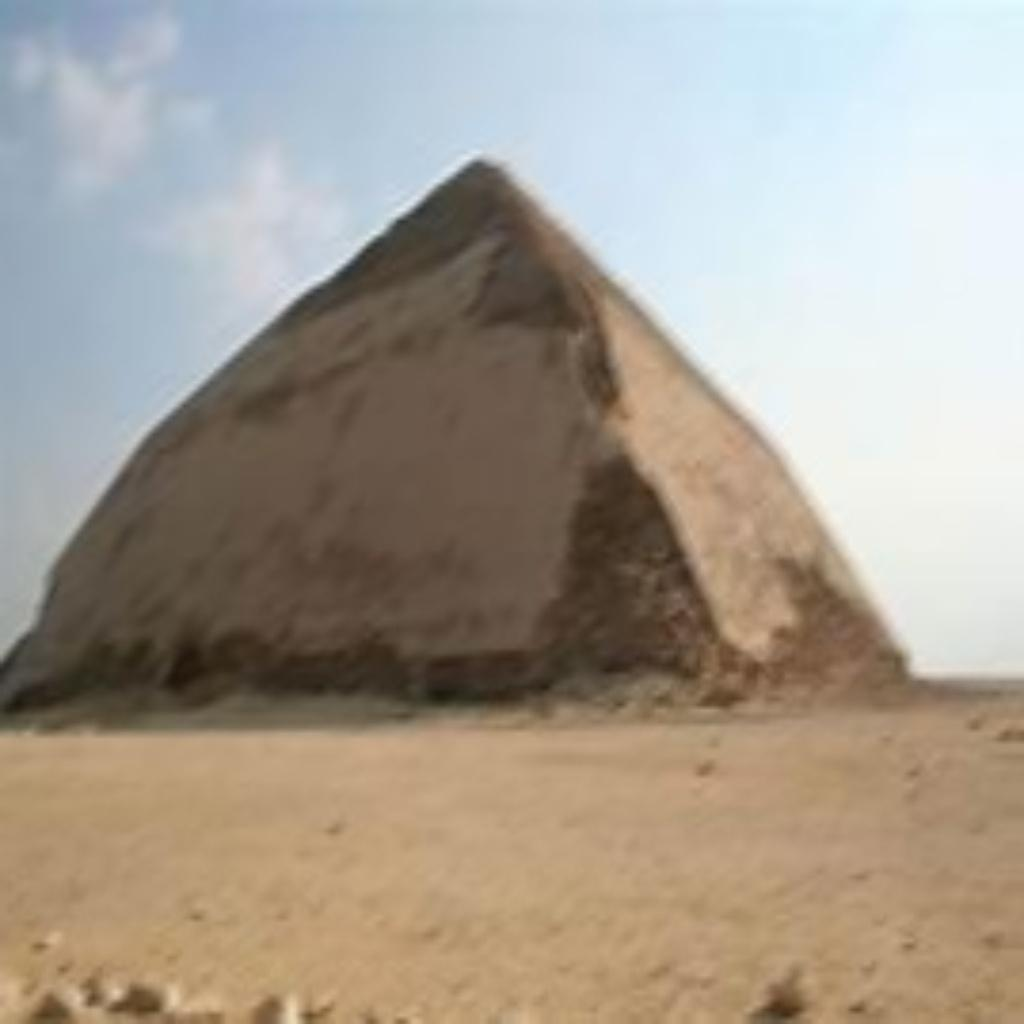Bent Pyramid of King Sneferu: (4, 144, 925, 719)
